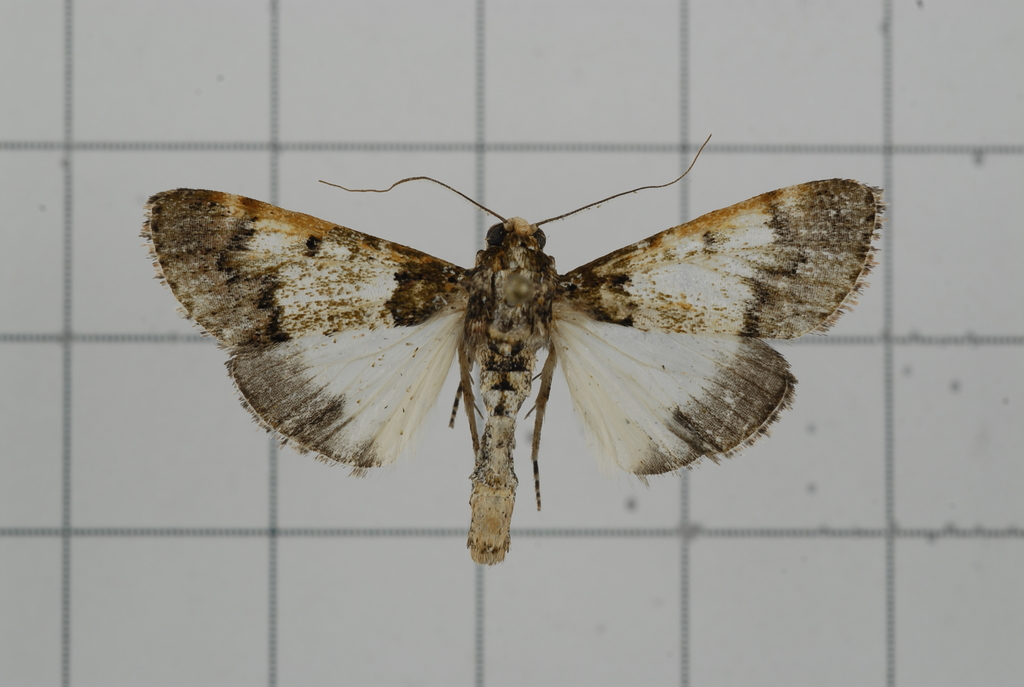Butterfly: (122, 162, 884, 567)
